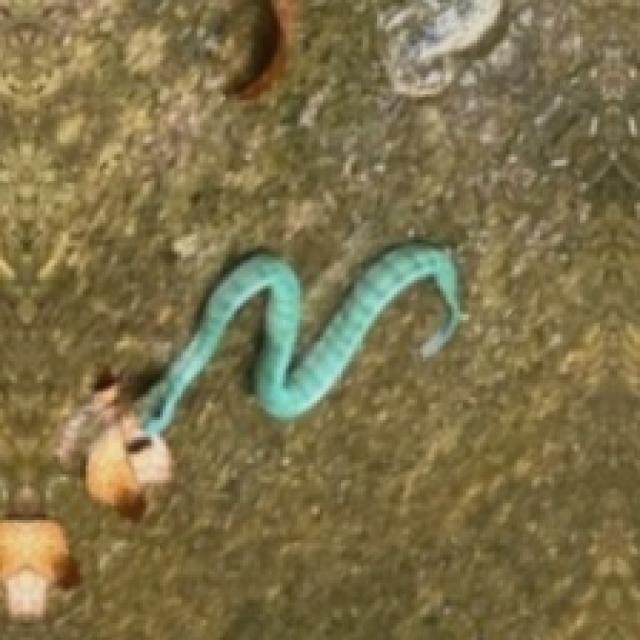north ph temple pitviper: (137, 243, 457, 431)
